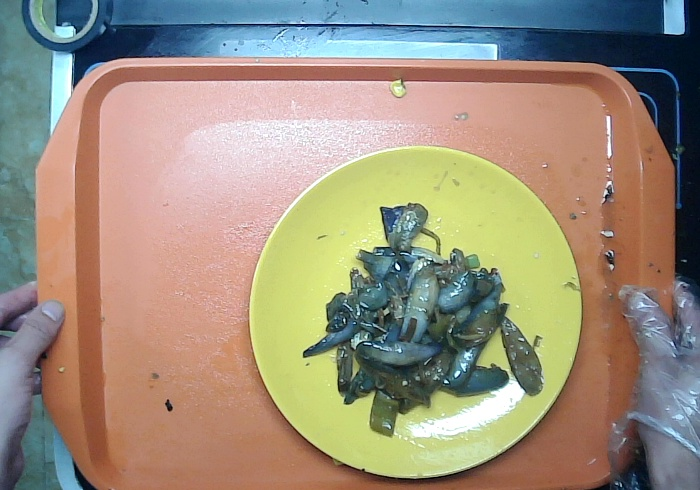HZYJPL-Huang_Se_Yuan_Pan: (236, 136, 586, 484)
